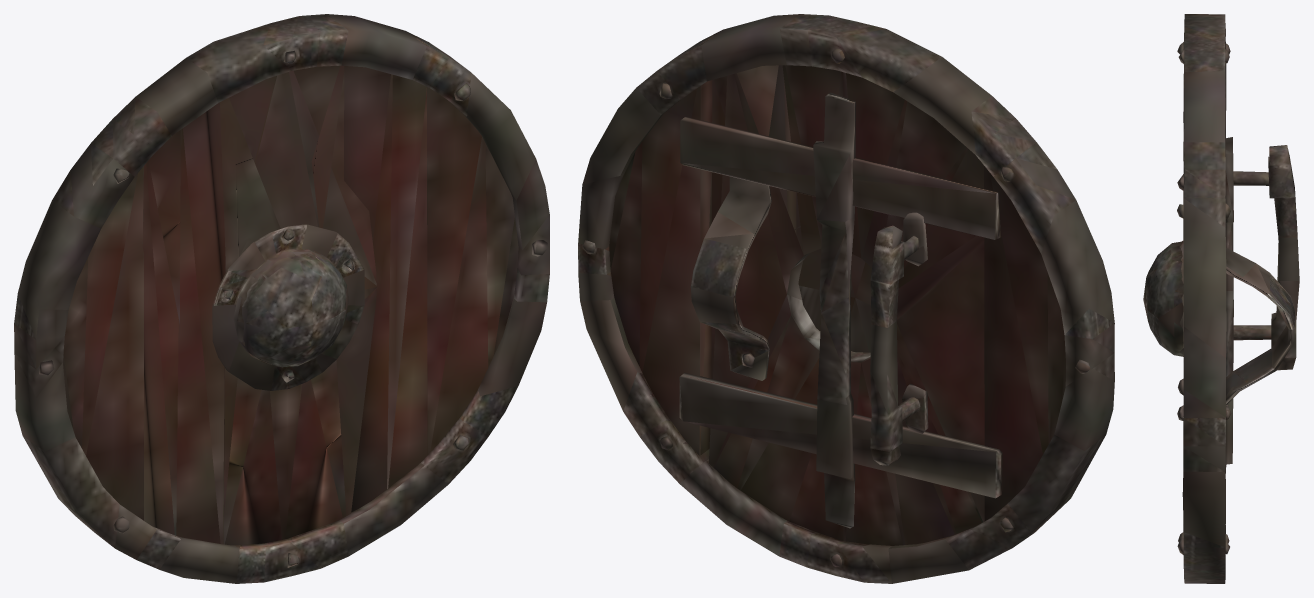
File: skeleton_shield_small_a.glb
3 views of the same model, side by side, from view 1: azimuth 30°, elevation 25°; view 2: azimuth 150°, elevation 25°; view 3: azimuth 270°, elevation 25° (orthographic). The views are drawn at different scales.
Parts seen in each view (by area): view 1: skeleton_shield_small_a; view 2: skeleton_shield_small_a; view 3: skeleton_shield_small_a.
Part boxes in pixels (x1,y1,x2,y2): skeleton_shield_small_a: (14,14,549,583); skeleton_shield_small_a: (578,14,1114,583); skeleton_shield_small_a: (1143,14,1299,583).
Bounding box in the file's own units: 0.8322 × 0.8322 × 0.2288.
Materials: 1 (1 with a texture image).
